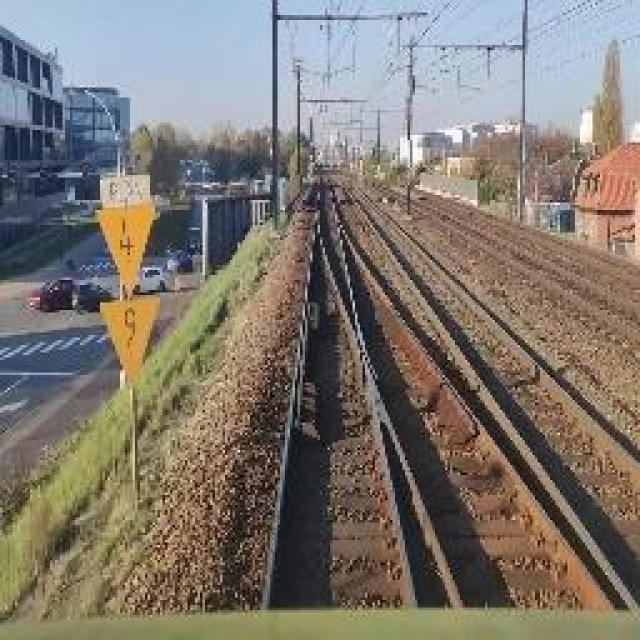rail: (229, 162, 640, 617)
